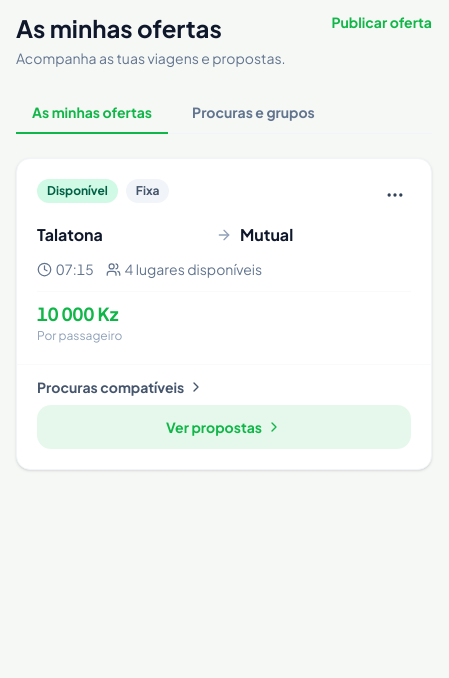
Scenario: Hub motorista — lista Procuras e grupos usa OpportunityCard › OD em falta não escreve Origem nem Destino e não inventa rota
The width and height of the screenshot is (449, 678).
Click the tab "Procuras e grupos". click: (254, 113)
box: [176, 92, 331, 134]
(page scrolled)
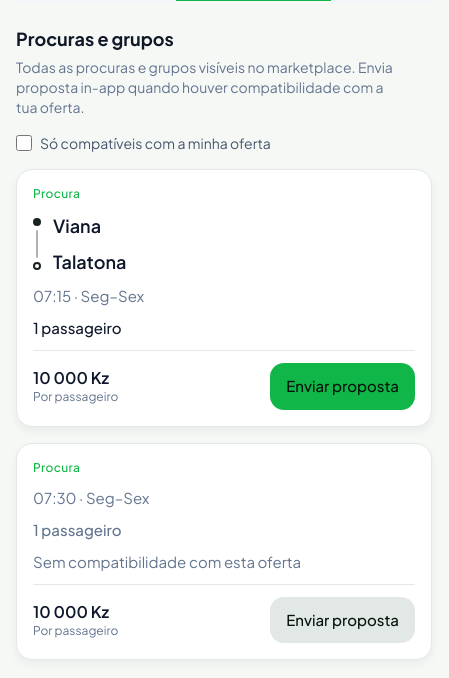
Expected: the text "Viana" is shown, [53, 214, 101, 237]
Expected: the text "07:30 · Seg–Sex" is shown, [33, 488, 149, 506]
